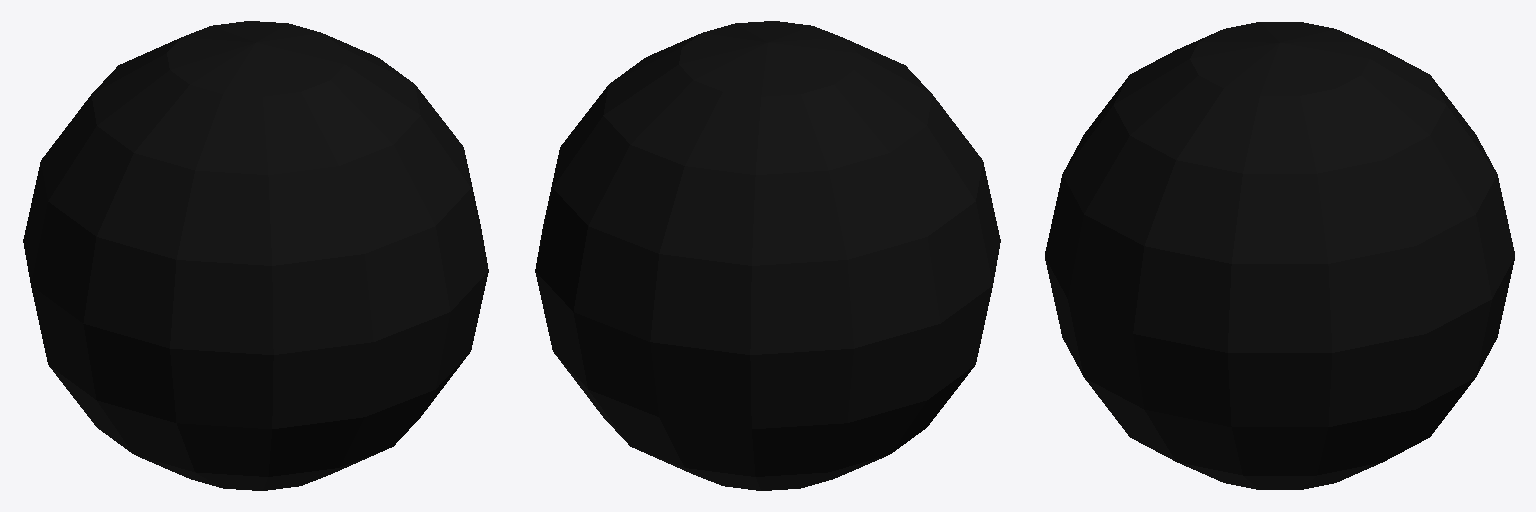
The model's file is stone.obj.
3 renders of one model, left to right at view 1: azimuth 30°, elevation 25°; view 2: azimuth 150°, elevation 25°; view 3: azimuth 270°, elevation 25°, orthographic.
Visible parts, largest first — view 1: Sphere; view 2: Sphere; view 3: Sphere.
Part boxes in pixels (x1,y1,x2,y2): Sphere: (23,21,488,490); Sphere: (535,21,1000,490); Sphere: (1045,22,1514,489).
Bounding box in the file's own units: 1.95 × 2 × 2.